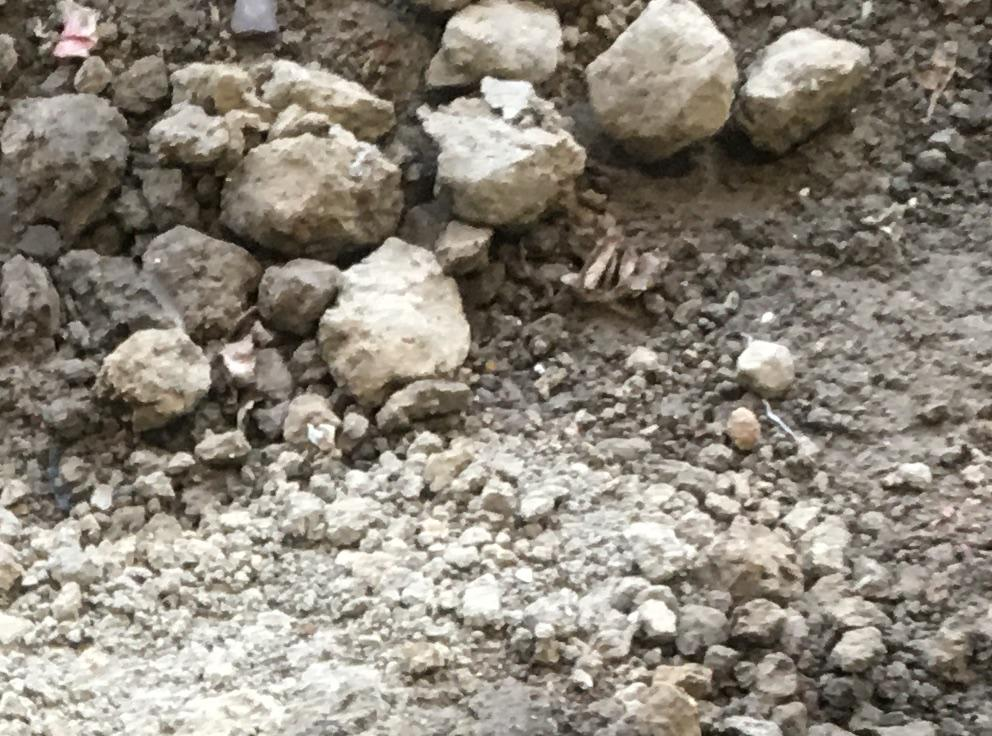block: (315, 237, 481, 395), (208, 132, 408, 249), (582, 9, 732, 159), (418, 97, 584, 227), (9, 96, 128, 246), (742, 22, 869, 156), (98, 322, 209, 433), (421, 4, 561, 92)
